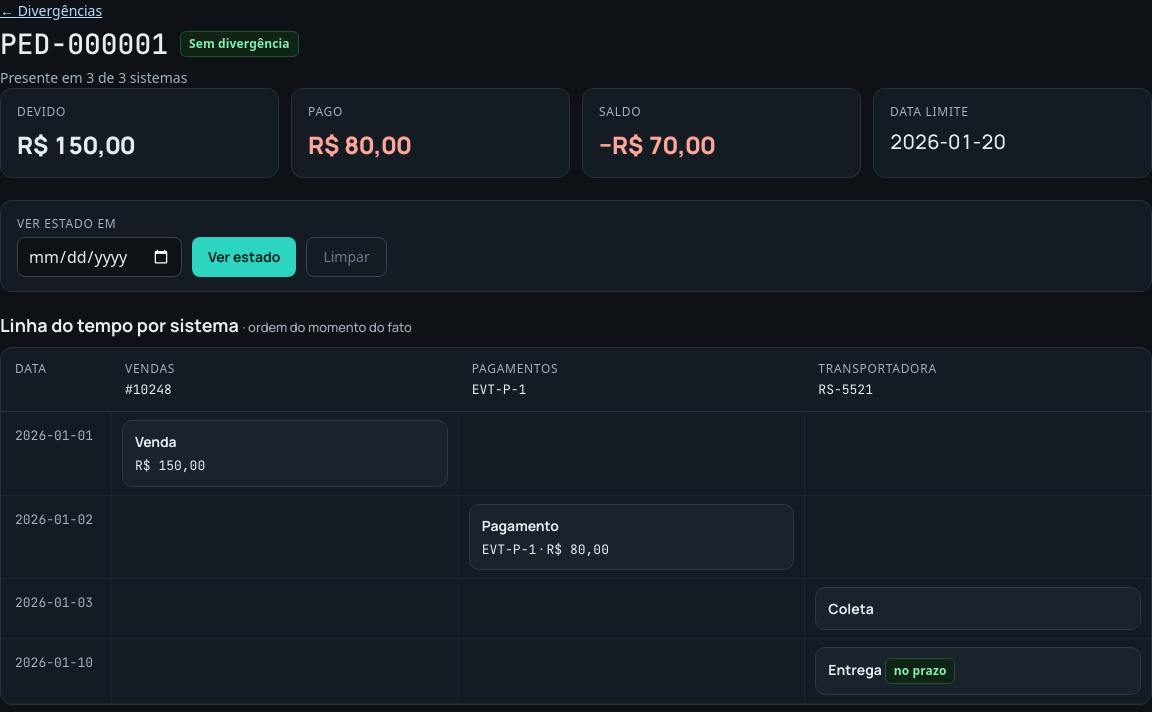
Estado do pedido em uma data — anterior à venda › data anterior ao evento de venda: 'Nenhum evento até esta data.', sem frase de estado
This screenshot has width=1152, height=712.
expect the heading named "Pedido PED-000001" is shown: met, box [0,27,168,61]
Type "2025-12-01" into the date field labelled "Ver estado em". click: (100, 257)
box: [17,237,182,277]
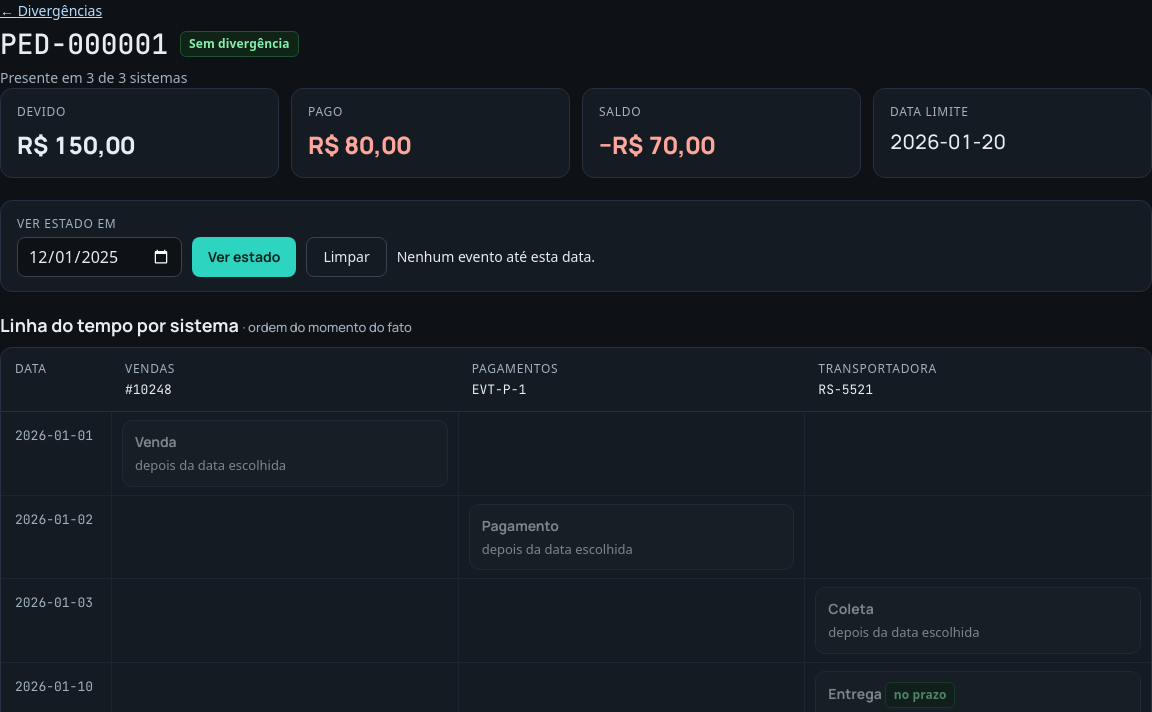
expect the text "Nenhum evento até esta data." does not show "Em 2025-12-01:": met, box [397,247,595,266]
expect the text "Nenhum evento até esta data." is shown: met, box [397,247,595,266]
